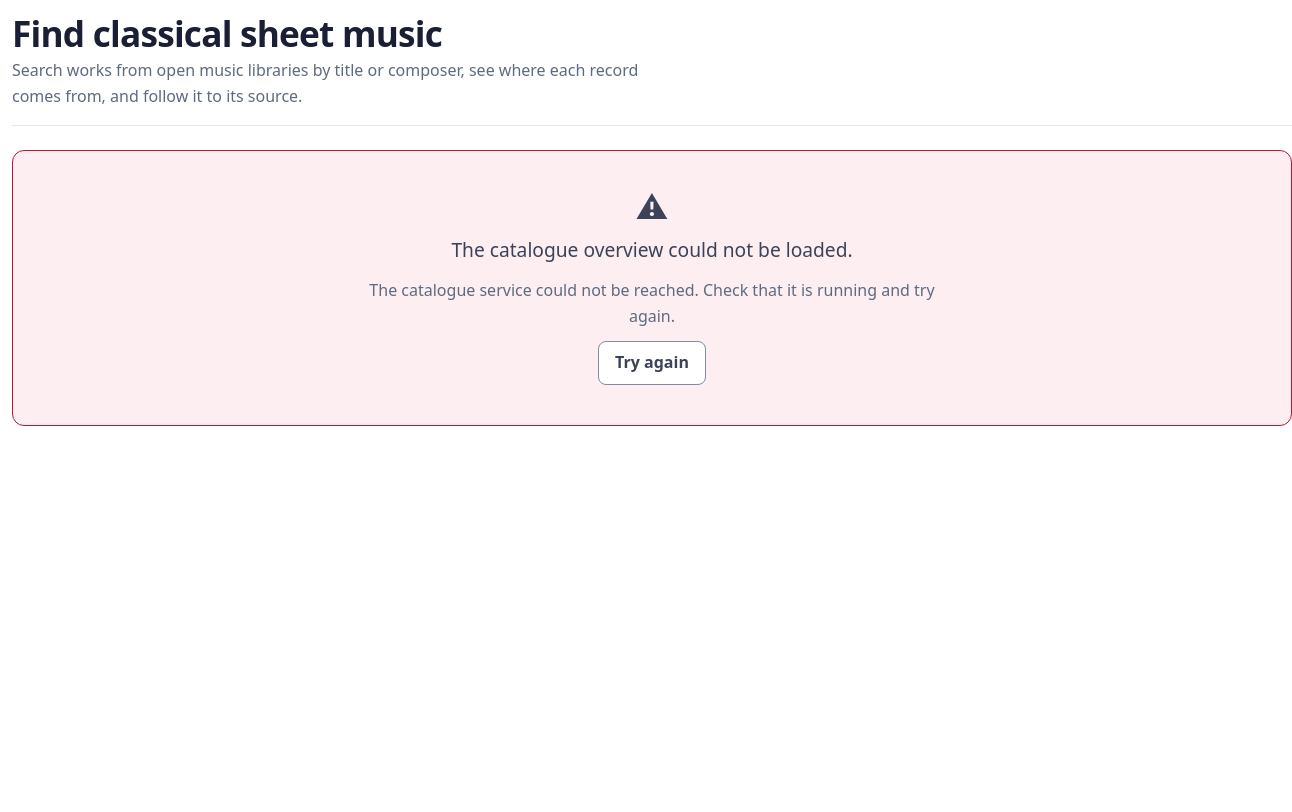
Scenario: DashboardPage › shows an error state and recovers on retry
expect the text "The catalogue overview could not be loaded." is shown: met, box [451,235,853,266]
Step 1. Click the button "Try again" → (652, 363), box [598,341,706,385]
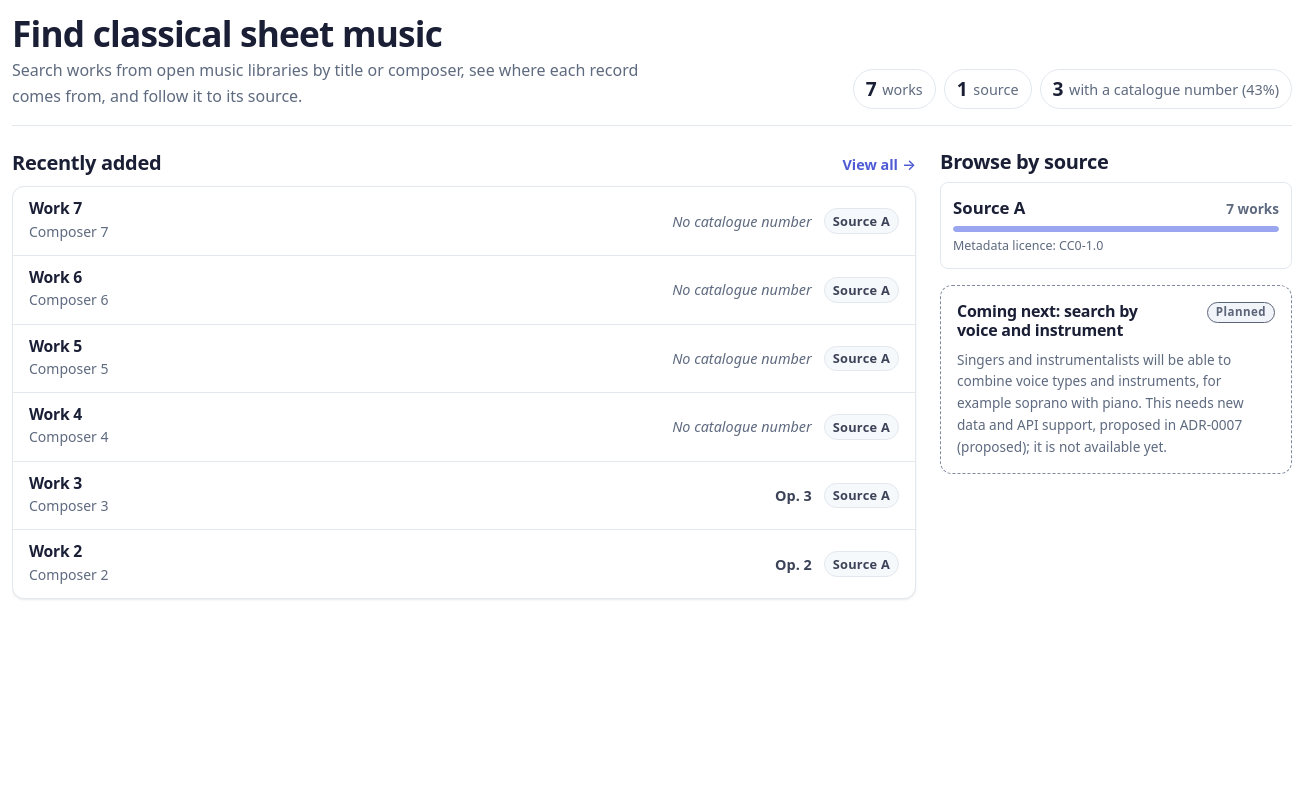
expect the list named "Catalogue at a glance" is shown: met, box [853,69,1291,109]
